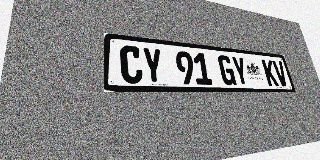1: (192, 52, 213, 85)
9: (175, 50, 196, 85)
C: (120, 45, 143, 84)
G: (217, 55, 237, 85)
K: (261, 59, 279, 86)
V: (272, 60, 289, 86)
Y: (142, 47, 164, 84), (231, 56, 250, 86)
